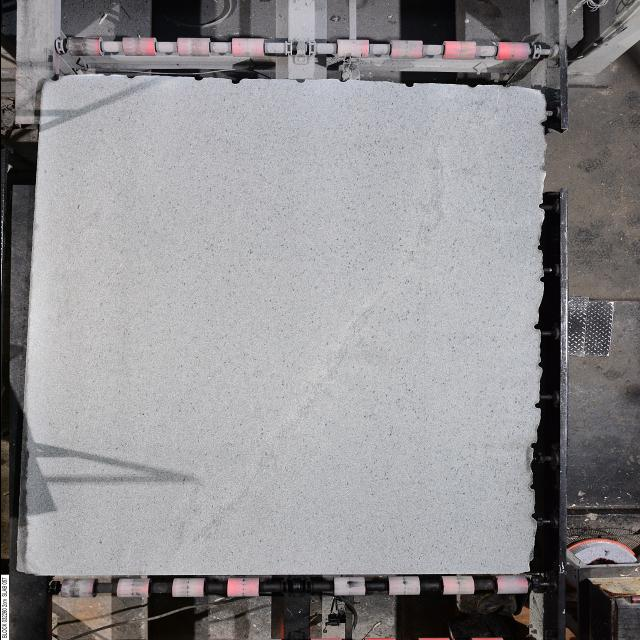chapa: (21, 76, 544, 575)
veio: (528, 440, 540, 452), (402, 81, 416, 88), (228, 78, 242, 84), (536, 202, 546, 210), (532, 322, 542, 330), (532, 402, 542, 410)
